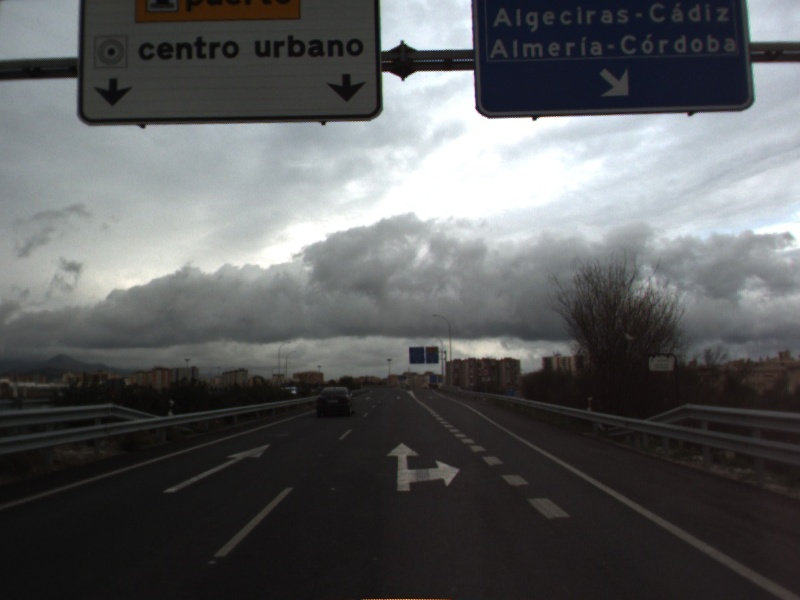STRAIGHT: (160, 442, 273, 495)
STRAIGHT_RIGHT: (384, 440, 463, 493)
